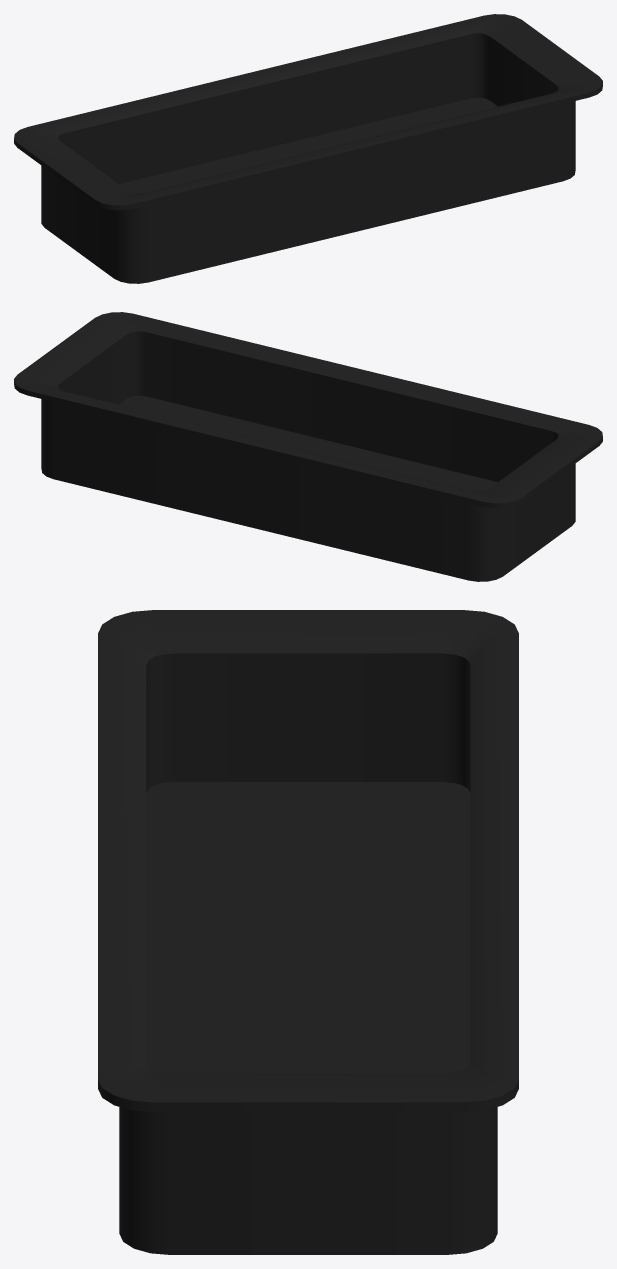
File: tin_loaf.obj
3 views of the same model, one above another, from view 1: azimuth 30°, elevation 25°; view 2: azimuth 150°, elevation 25°; view 3: azimuth 270°, elevation 25° (orthographic). The views are drawn at different scales.
Parts seen in each view (by area): view 1: tin_loaf.001; view 2: tin_loaf.001; view 3: tin_loaf.001.
Part boxes in pixels (x1,y1,x2,y2): tin_loaf.001: (14, 14, 602, 283); tin_loaf.001: (14, 312, 602, 581); tin_loaf.001: (98, 610, 518, 1254).
Size of the model in its own units: 0.3301 by 0.0547 by 0.1193.
